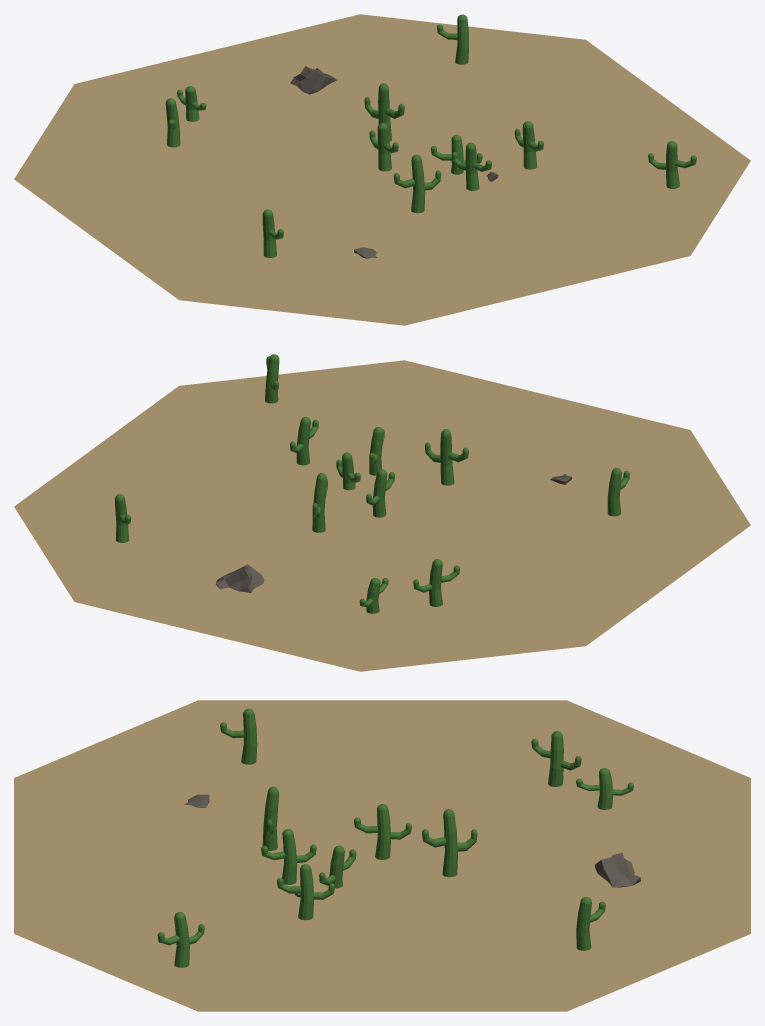
Rendered from Desert Cactuses.fbx.
The picture shows the model from 3 angles, top to bottom: view 1: azimuth 30°, elevation 25°; view 2: azimuth 150°, elevation 25°; view 3: azimuth 270°, elevation 25°; orthographic projection. The views are drawn at different scales.
Visible parts, largest first — view 1: Desert Cactuses; view 2: Desert Cactuses; view 3: Desert Cactuses.
Boxes of the visible parts, <box> form: Desert Cactuses: <box>14,14,750,325</box>; Desert Cactuses: <box>14,354,750,671</box>; Desert Cactuses: <box>14,700,750,1011</box>.
Bounding box in the file's own units: 402 × 51.38 × 402.
